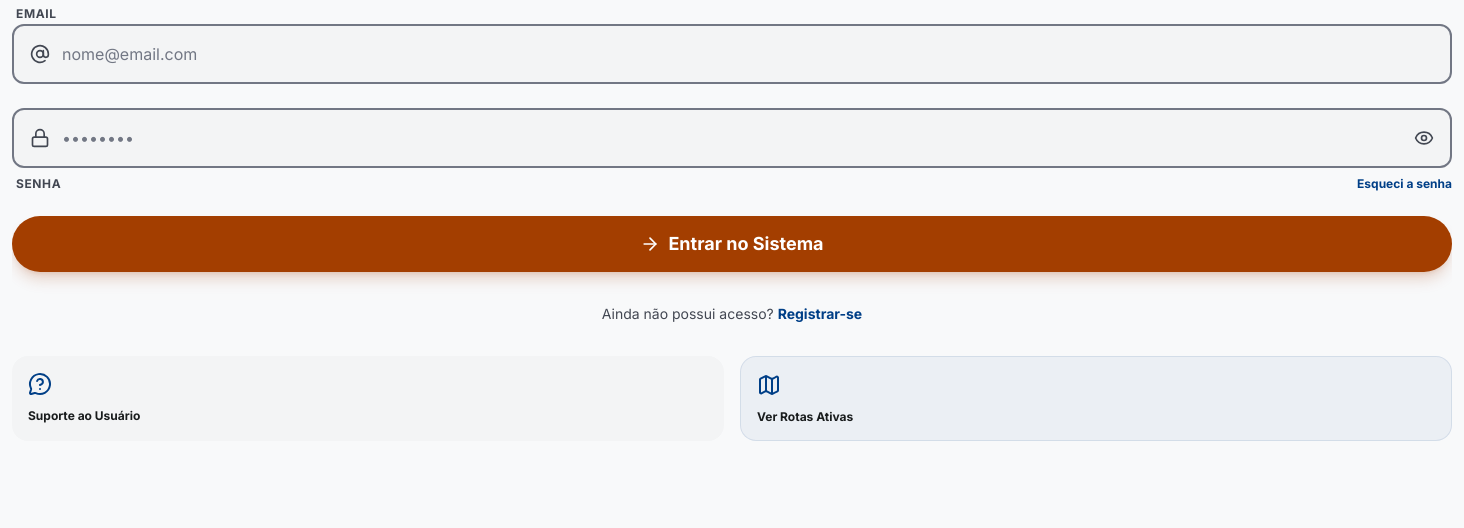
Scenario: LoginForm › deve exibir erro geral quando autenticacao falha
The width and height of the screenshot is (1464, 528).
Type "joao@test.com" into the field with placeholder "nome@email.com" at (732, 54), box x1=14 y1=26 x2=1450 y2=82
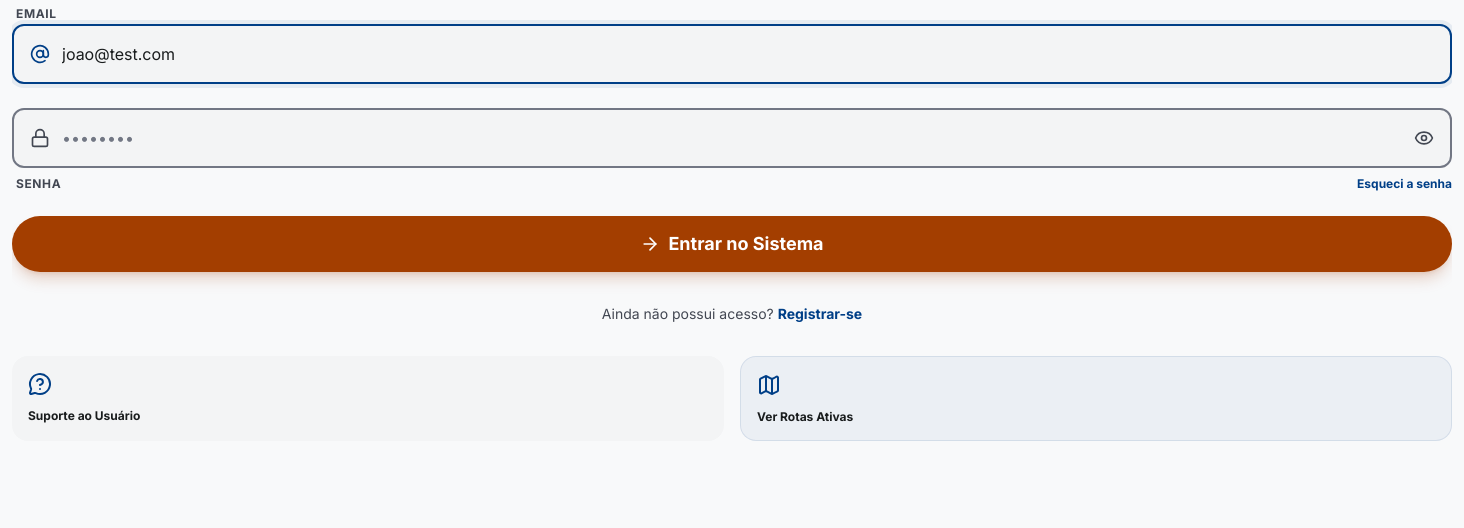
Type "Senha123" into the password field with placeholder "••••••••" at (732, 138), box x1=14 y1=110 x2=1450 y2=166
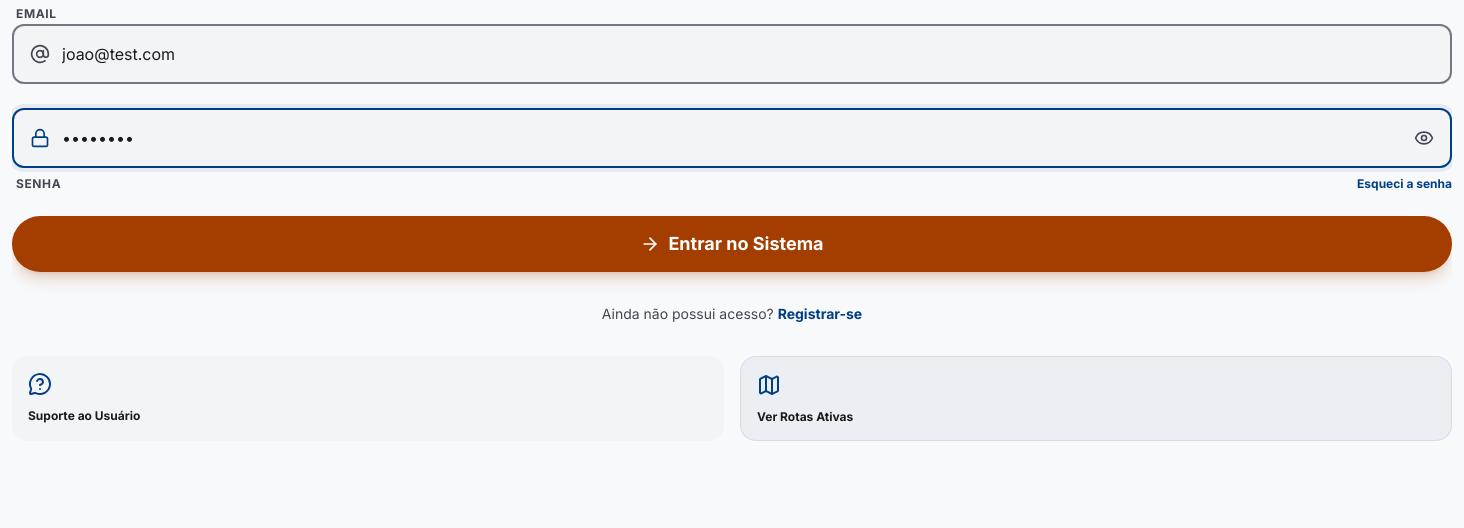
Click the button "Entrar no Sistema" at (732, 244), box x1=12 y1=216 x2=1452 y2=272
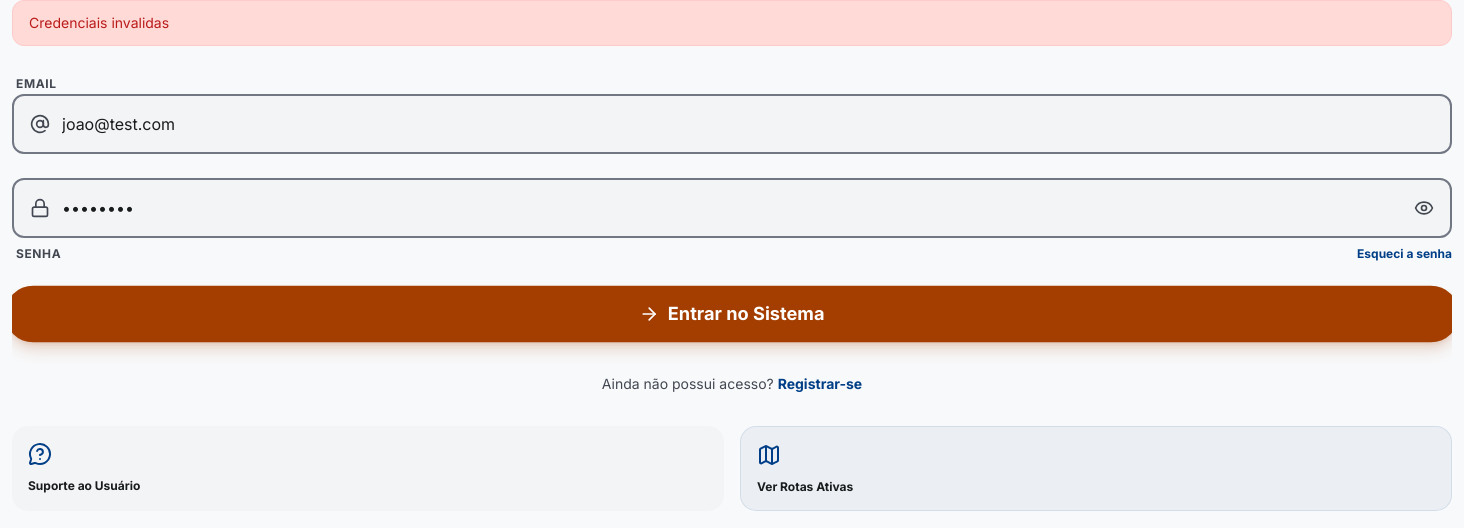
Now the text "Credenciais invalidas" is shown, box x1=12 y1=0 x2=1452 y2=46
